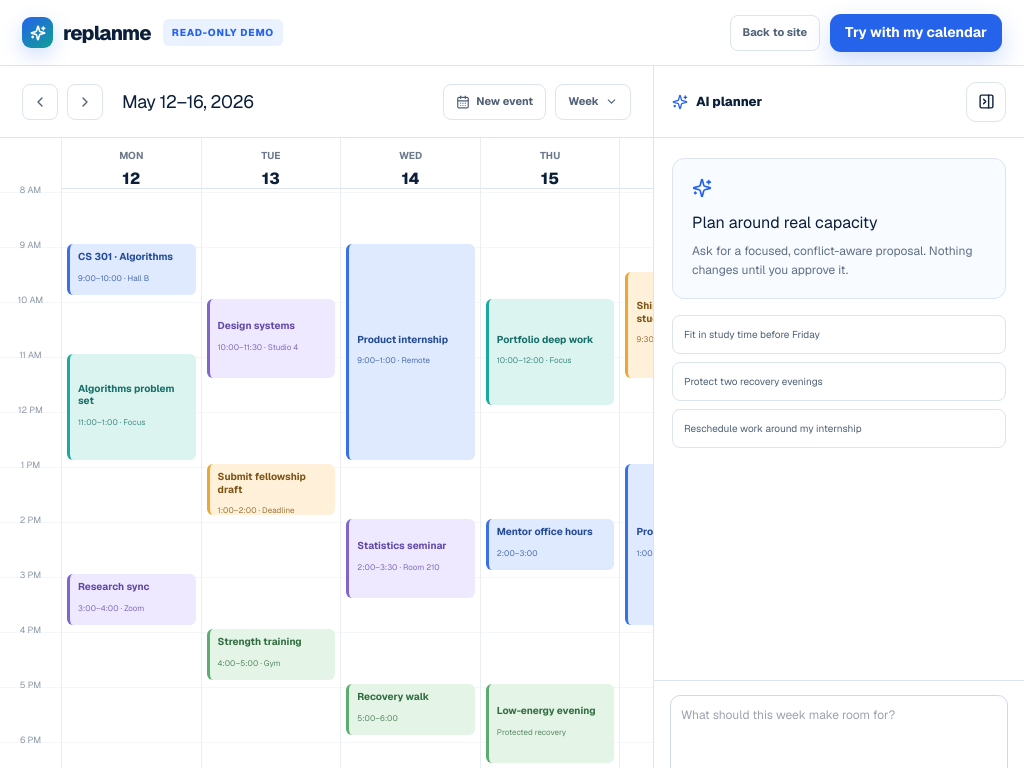
CalendarExperience › keeps demo mutations behind a sign-in gate
Click the button "Fit in study time before Friday": (752,335) [672,315,1006,354]
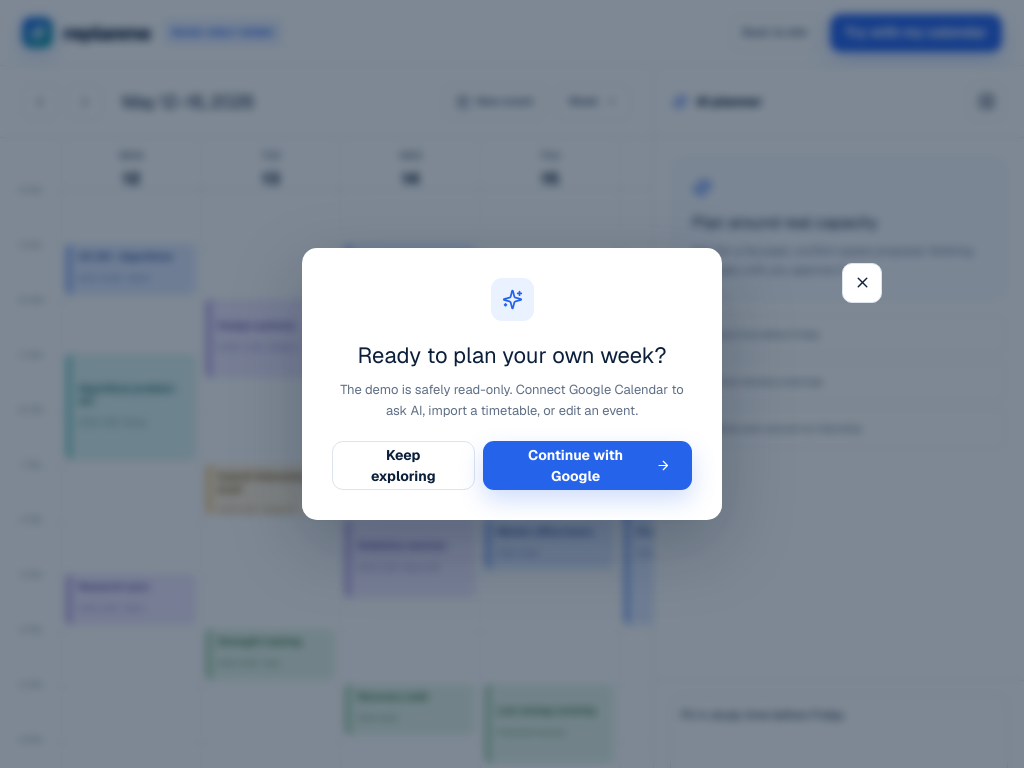
Result: the dialog is shown
Result: the text "demo is safely read-only" is shown at [340,381,684,418]
